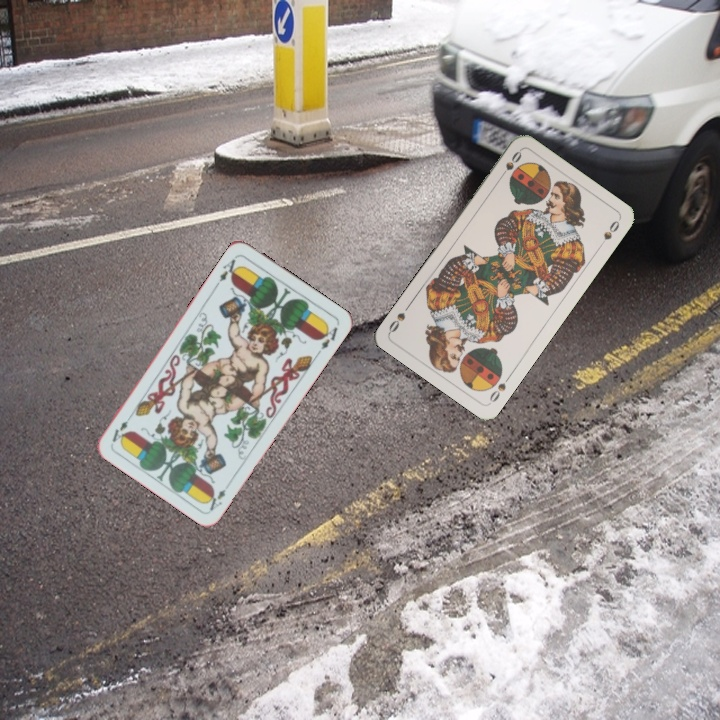EA: (212, 252, 242, 288), (203, 485, 229, 513)
SO: (495, 147, 524, 182), (485, 371, 514, 405)
